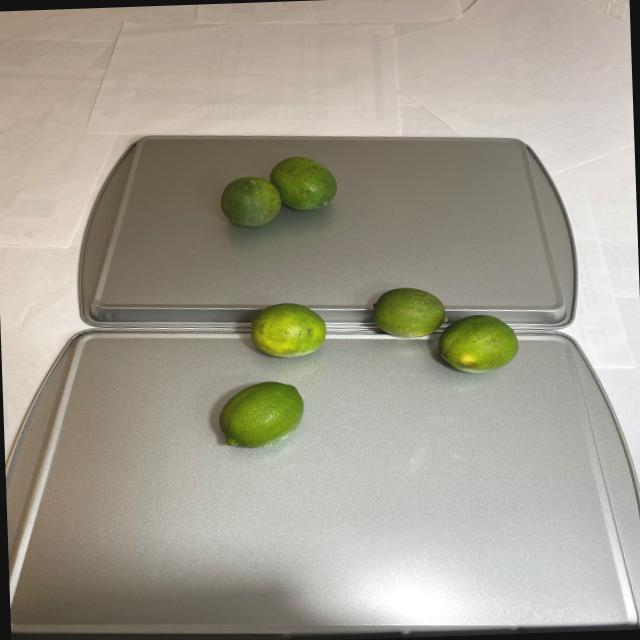lemon: (211, 284, 519, 456), (209, 155, 349, 233)
